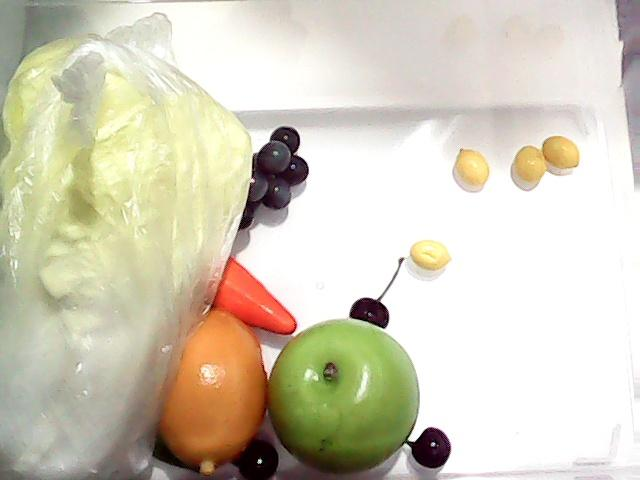apple: (258, 316, 422, 480)
carrot: (206, 255, 298, 337)
grape: (254, 114, 306, 218)
lemon: (158, 290, 278, 474)
napa cabbage: (0, 32, 244, 476)
